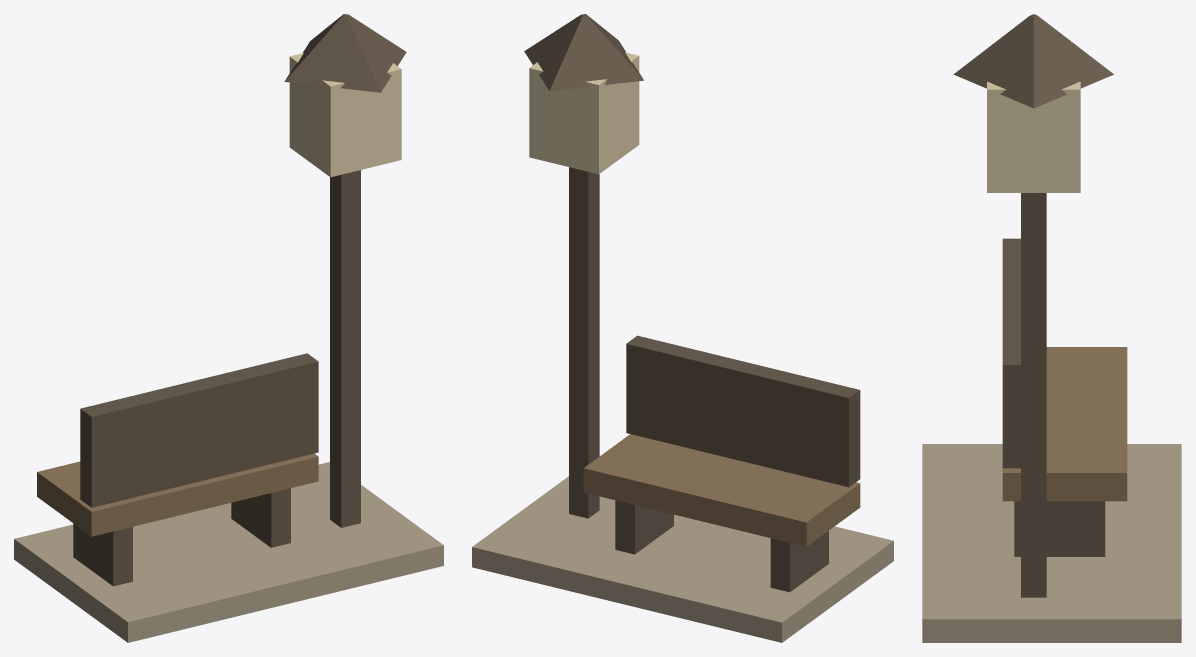
Rendered from Town_LanternBench.fbx.
The picture shows the model from 3 angles, left to right: view 1: azimuth 30°, elevation 25°; view 2: azimuth 150°, elevation 25°; view 3: azimuth 270°, elevation 25°; orthographic projection. The views are drawn at different scales.
Parts seen in each view (by area): view 1: Town_LanternBench; view 2: Town_LanternBench; view 3: Town_LanternBench.
Boxes of the visible parts, bbox=[...] form: Town_LanternBench: bbox=[14, 14, 443, 642]; Town_LanternBench: bbox=[472, 14, 893, 642]; Town_LanternBench: bbox=[922, 14, 1181, 642].
Bounding box in the file's own units: 1.67 × 2.55 × 1.
